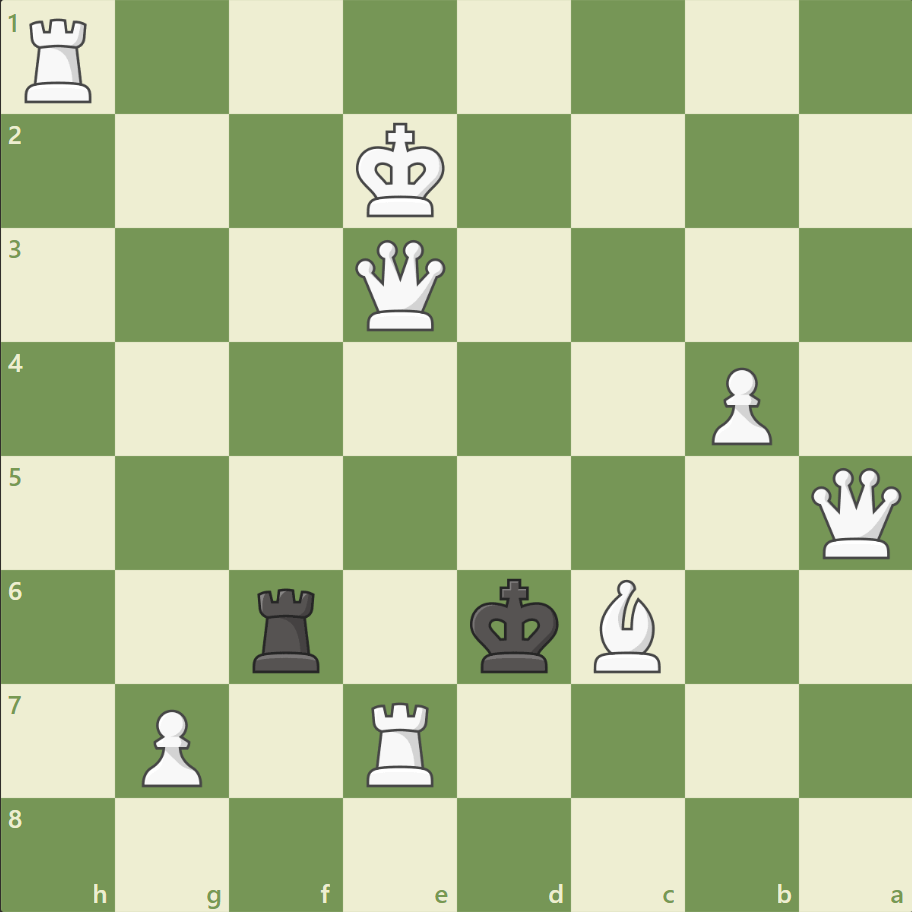B: (585, 574, 669, 676)
K: (351, 117, 451, 225)
P: (133, 700, 208, 791), (701, 359, 776, 450)
Q: (805, 463, 904, 562), (351, 236, 450, 335)
R: (19, 12, 102, 109), (360, 693, 442, 790)
k: (465, 571, 565, 679)
r: (246, 579, 329, 676)
